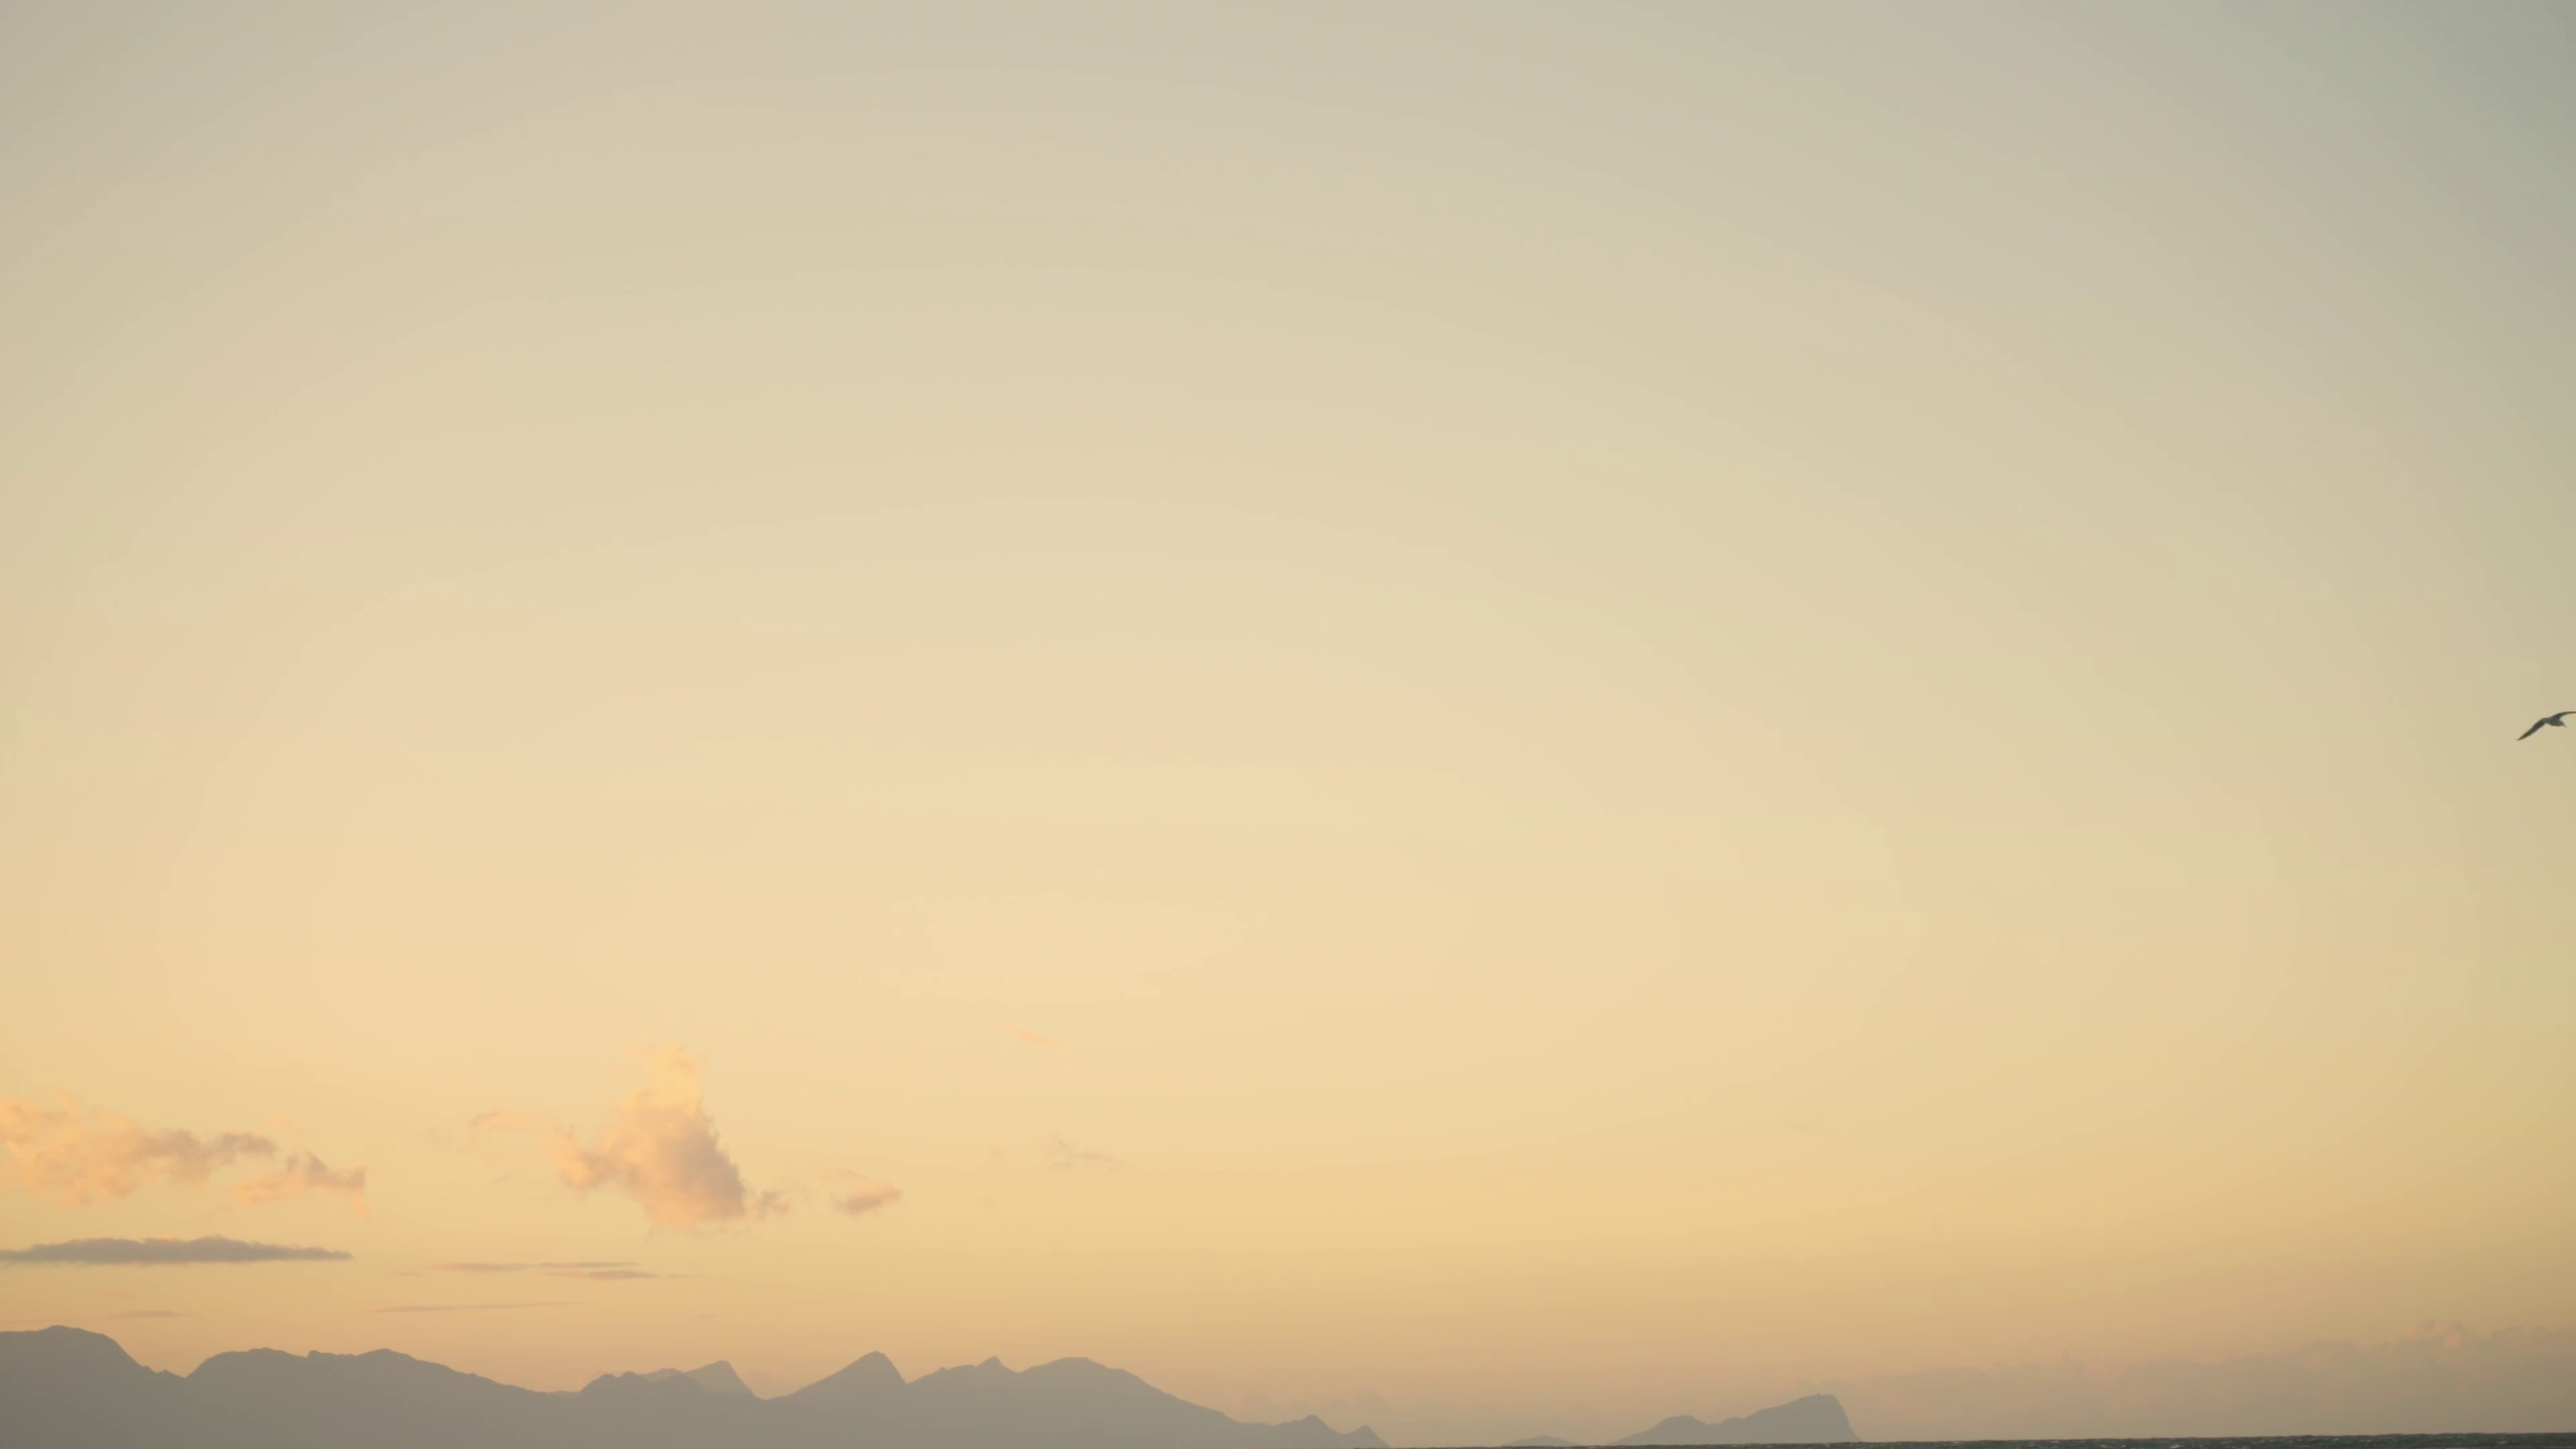bird: (2518, 711, 2576, 741)
